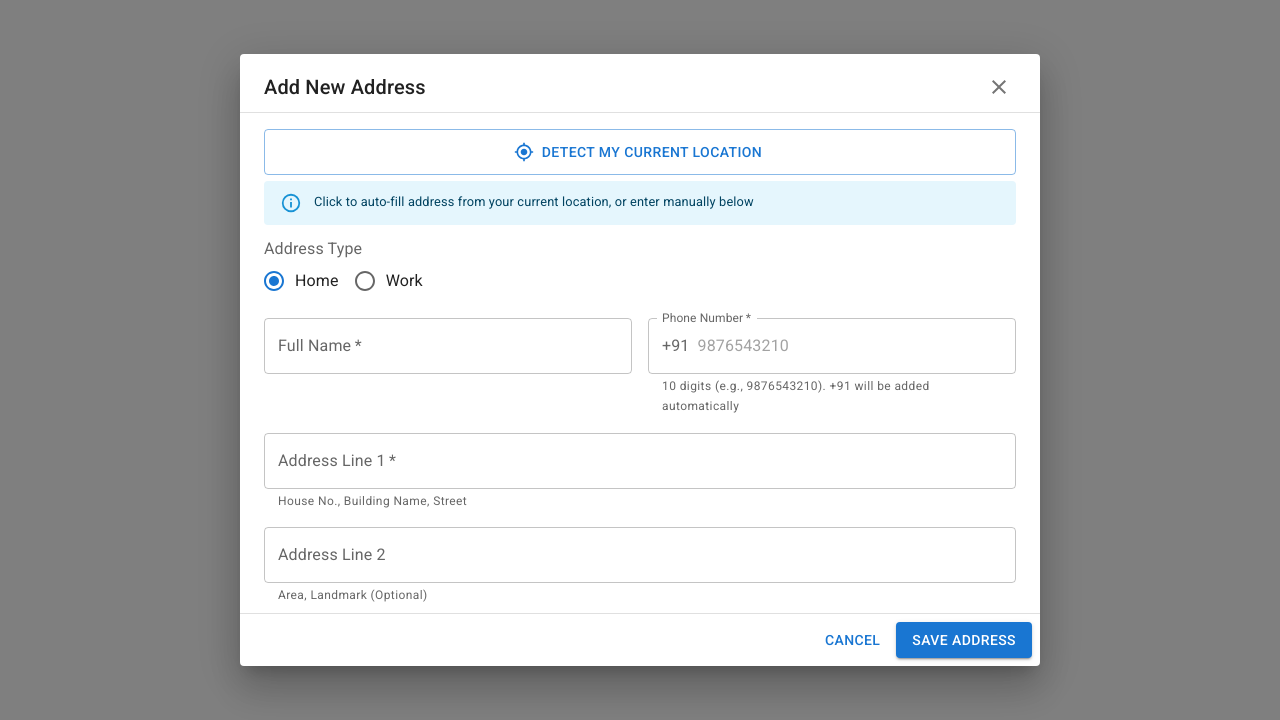
AddressForm Component › Location Detection › detects location successfully
The width and height of the screenshot is (1280, 720).
Click the button "Detect My Current Location": (640, 152) x1=264 y1=129 x2=1016 y2=175
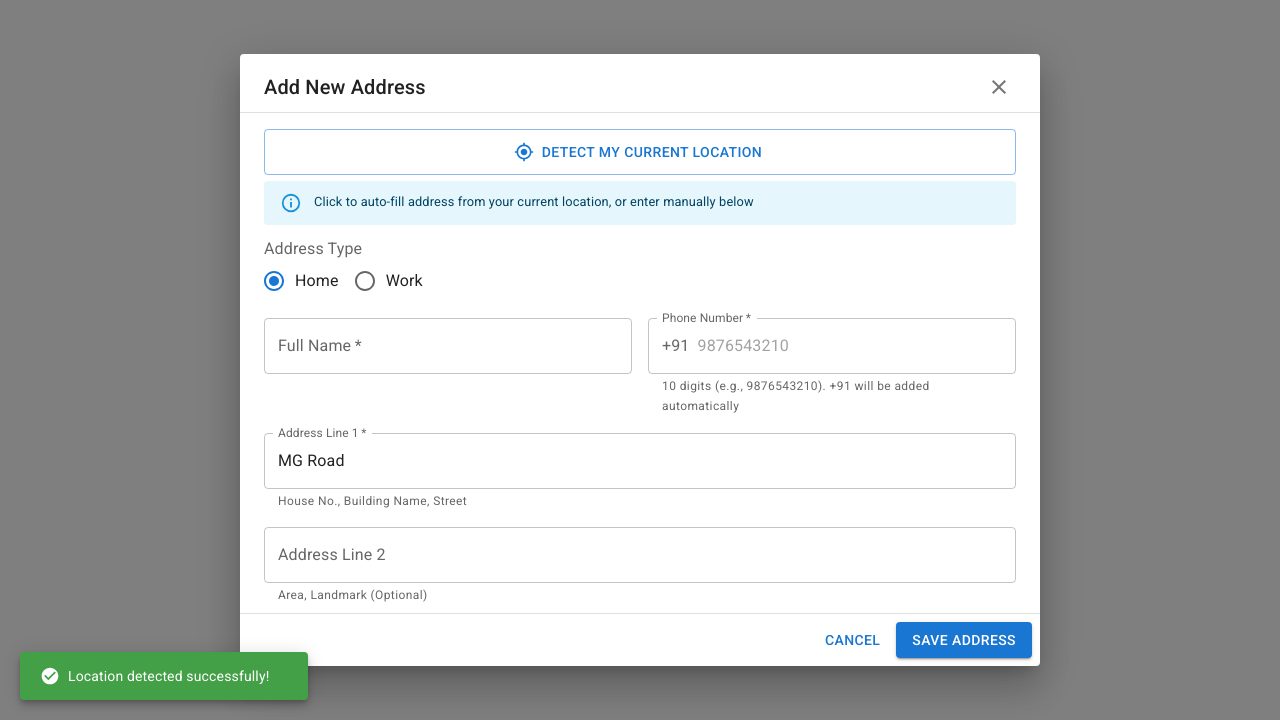
Result: the field showing "MG Road" is shown at x1=264 y1=432 x2=1016 y2=488
